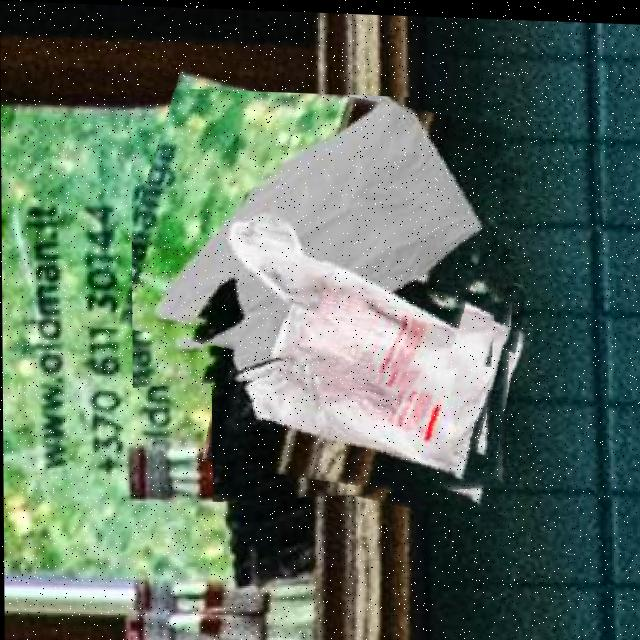plasticcover: (130, 85, 511, 399), (210, 230, 519, 510)
